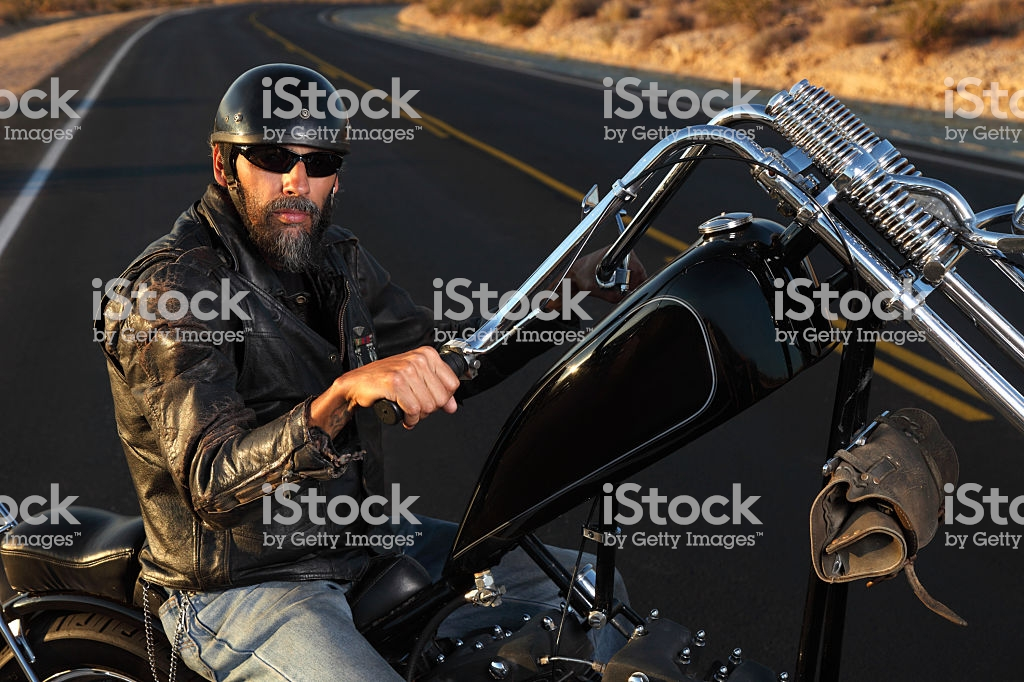helmet: (204, 64, 360, 157)
